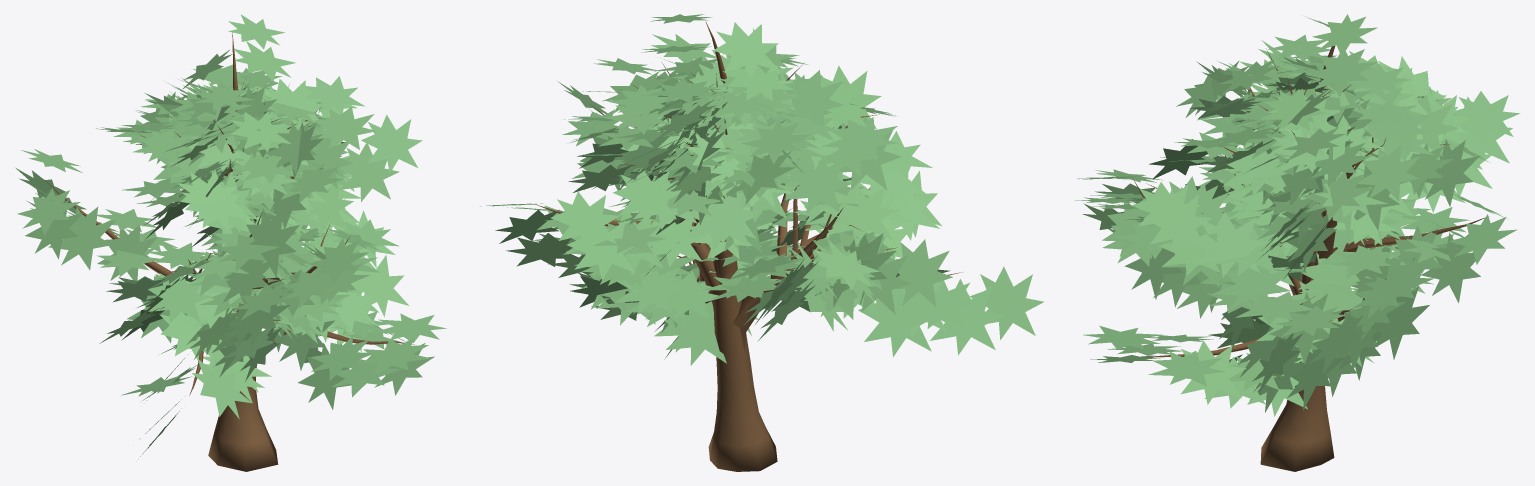
Rendered from acer-palmatum-mature.glb.
The picture shows the model from 3 angles, left to right: view 1: azimuth 30°, elevation 25°; view 2: azimuth 150°, elevation 25°; view 3: azimuth 270°, elevation 25°; orthographic projection. The views are drawn at different scales.
Parts seen in each view (by area): view 1: ToonlabTree; view 2: ToonlabTree; view 3: ToonlabTree.
Boxes of the visible parts, left/top/right/bottom form: ToonlabTree: left=16, top=14, right=446, bottom=471; ToonlabTree: left=480, top=14, right=1044, bottom=471; ToonlabTree: left=1075, top=14, right=1520, bottom=471.
Size of the model in its own units: 7.16 by 7.86 by 7.13.
